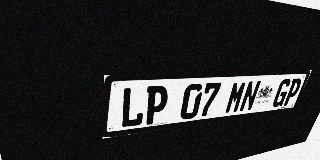0: (179, 83, 204, 120)
7: (197, 82, 222, 118)
G: (271, 79, 293, 108)
L: (120, 86, 147, 128)
M: (224, 81, 248, 114)
N: (238, 80, 262, 112)
P: (143, 85, 170, 125), (282, 78, 303, 106)
